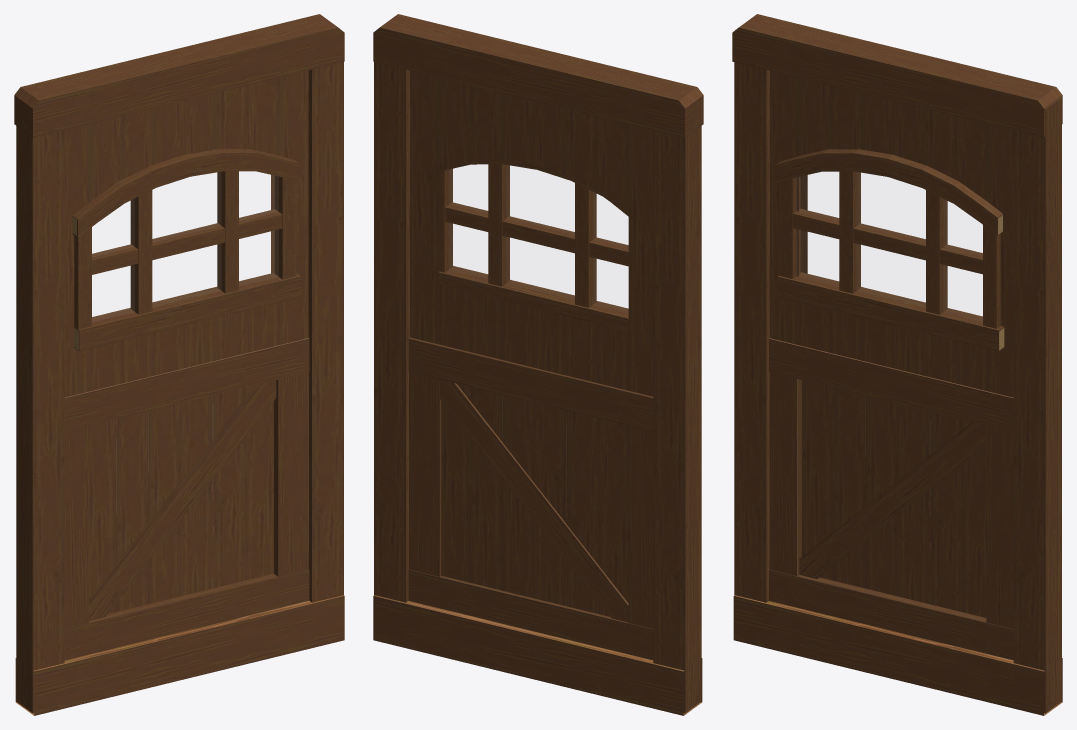
Rendered from Door_1_Flat.gltf.
3 views of the same model, side by side, from view 1: azimuth 30°, elevation 25°; view 2: azimuth 150°, elevation 25°; view 3: azimuth 330°, elevation 25° (orthographic).
Parts seen in each view (by area): view 1: Door_1_Flat; view 2: Door_1_Flat; view 3: Door_1_Flat.
Boxes of the visible parts, bbox=[...] form: Door_1_Flat: bbox=[14, 14, 344, 715]; Door_1_Flat: bbox=[373, 14, 703, 715]; Door_1_Flat: bbox=[732, 14, 1062, 715].
Size of the model in its own units: 1.12 by 2.1 by 0.1207.
2 materials, 1 textured.
